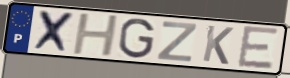E: (235, 24, 281, 70)
G: (117, 17, 156, 60)
H: (71, 13, 122, 57)
K: (201, 23, 236, 66)
X: (31, 9, 78, 55)
Z: (155, 20, 200, 64)
